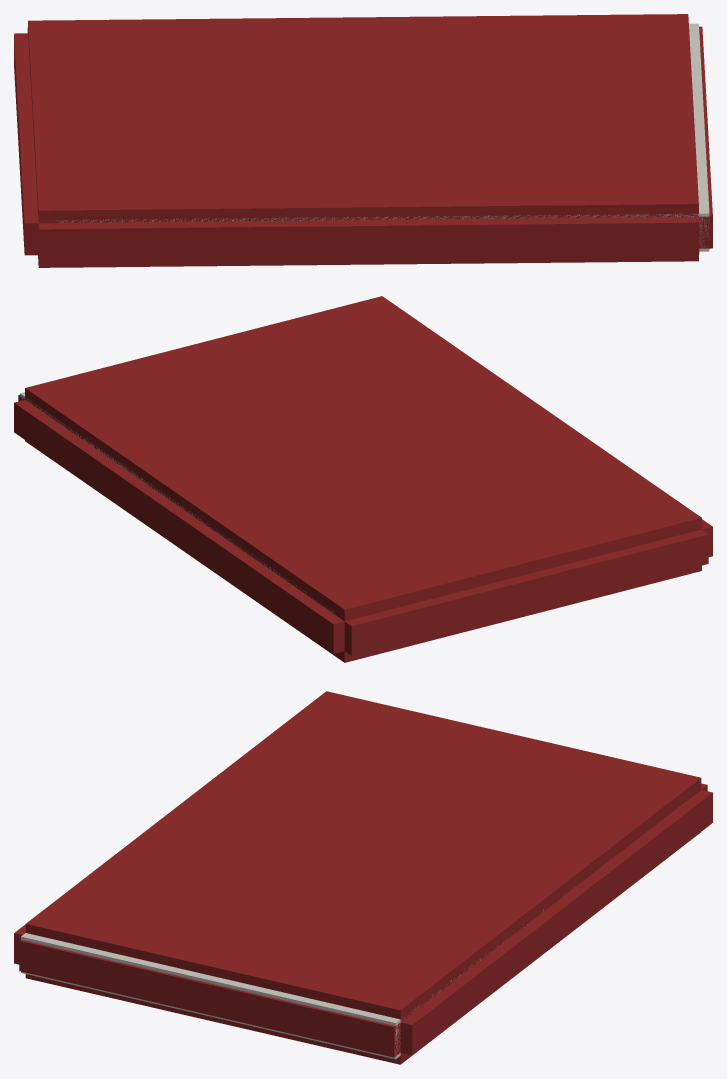
File: item_id_booklet_ground.glb
3 views of the same model, one above another, from view 1: azimuth 30°, elevation 25°; view 2: azimuth 150°, elevation 25°; view 3: azimuth 270°, elevation 25° (orthographic). The views are drawn at different scales.
Parts seen in each view (by area): view 1: id_booklet_ground; view 2: id_booklet_ground; view 3: id_booklet_ground.
Part boxes in pixels (x1,y1,x2,y2): id_booklet_ground: (14,14,712,267); id_booklet_ground: (14,296,712,662); id_booklet_ground: (14,691,712,1064).
Size of what is drawn, in the model's own units: 0.1167 by 0.0098 by 0.1047.
